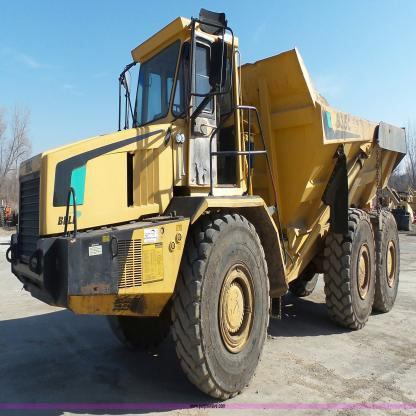dump_truck: (14, 9, 404, 396)
